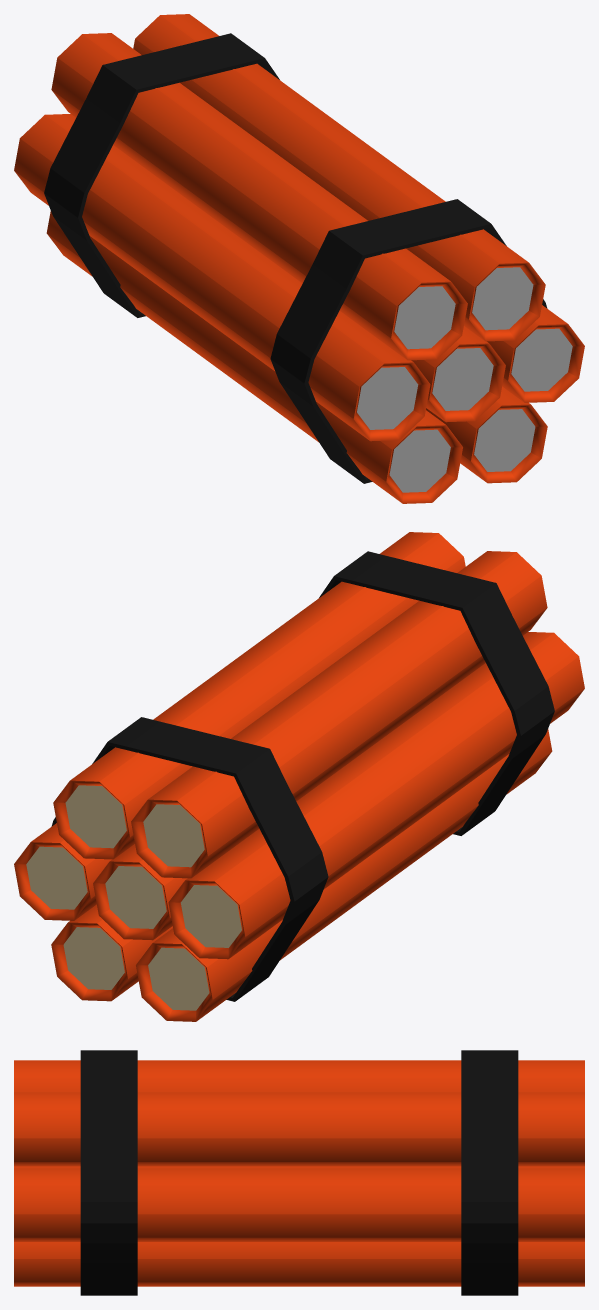
Rendered from Dynamite 1.fbx.
3 renders of one model, top to bottom at view 1: azimuth 30°, elevation 25°; view 2: azimuth 150°, elevation 25°; view 3: azimuth 270°, elevation 25°, orthographic. The views are drawn at different scales.
Parts seen in each view (by area): view 1: Dynamite; view 2: Dynamite; view 3: Dynamite.
Part boxes in pixels (<box>): Dynamite: <box>14,14,584,503</box>; Dynamite: <box>14,532,584,1021</box>; Dynamite: <box>14,1050,584,1295</box>.
Bounding box in the file's own units: 16.58 × 14.67 × 39.45.
